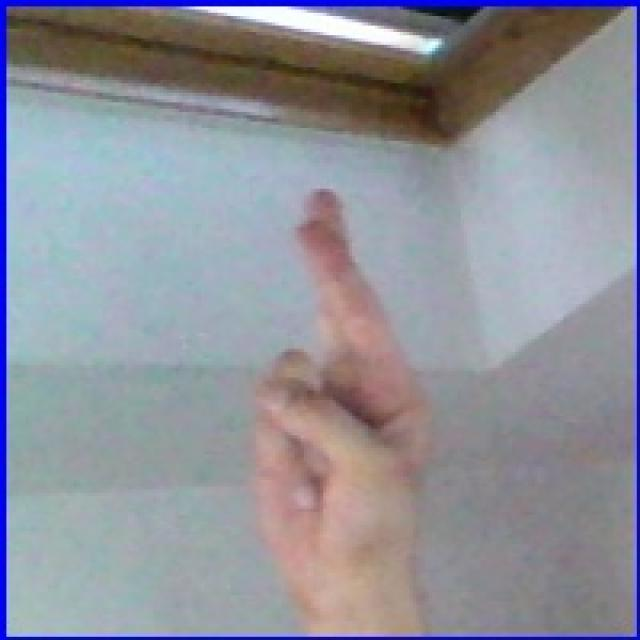Letra-R: (222, 174, 468, 596)
